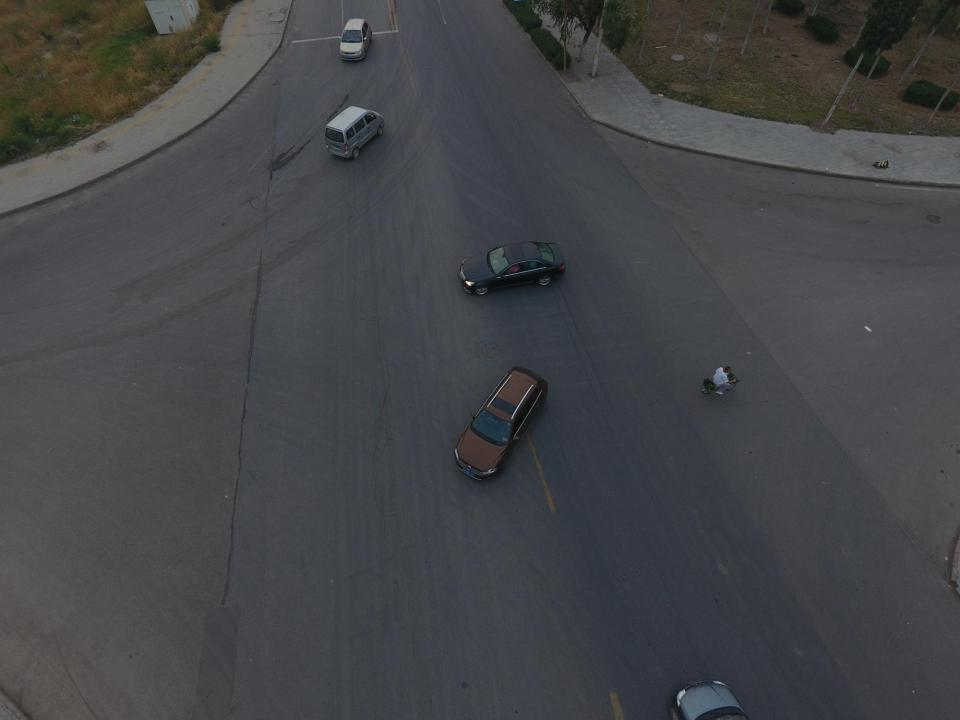car: (453, 367, 549, 480), (460, 243, 565, 294), (338, 16, 371, 62)
van: (325, 106, 383, 160)
